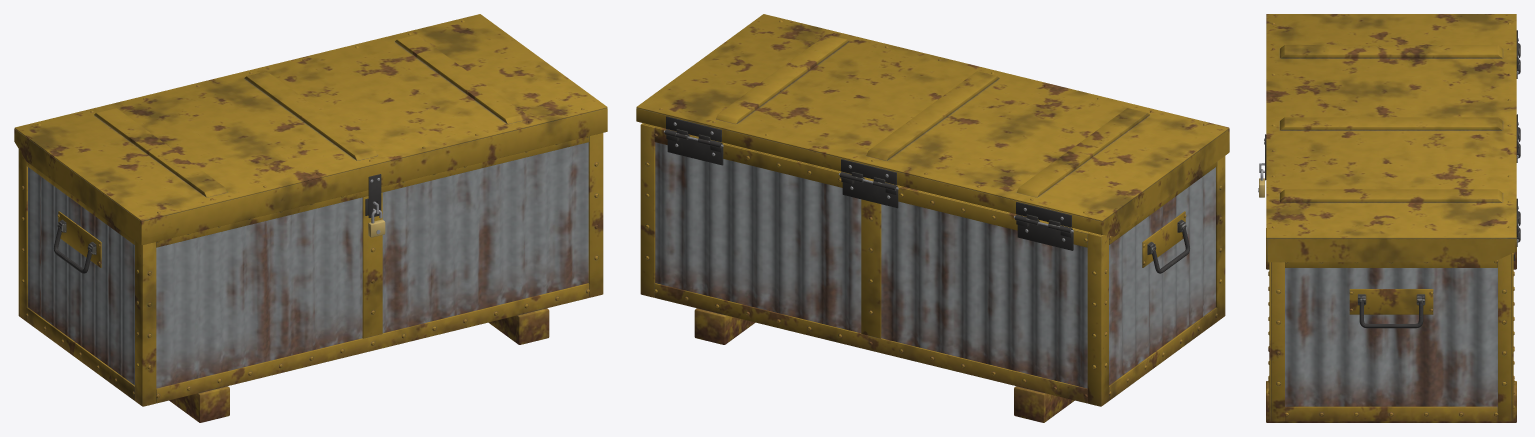
Rendered from bau_aco.glb.
The picture shows the model from 3 angles, left to right: view 1: azimuth 30°, elevation 25°; view 2: azimuth 150°, elevation 25°; view 3: azimuth 270°, elevation 25°; orthographic projection.
Visible parts, largest first — view 1: tampa, corpo, armacao, ferragens, tampa_ferragens; view 2: corpo, tampa, armacao, ferragens, tampa_ferragens; view 3: tampa, corpo, armacao, ferragens, tampa_ferragens.
Boxes of the visible parts, left/top/right/bottom form: tampa: left=14, top=14, right=607, bottom=245; corpo: left=28, top=142, right=588, bottom=388; armacao: left=18, top=133, right=603, bottom=422; ferragens: left=54, top=198, right=385, bottom=273; tampa_ferragens: left=37, top=20, right=584, bottom=217; corpo: left=655, top=142, right=1215, bottom=388; tampa: left=636, top=14, right=1229, bottom=236; armacao: left=640, top=123, right=1225, bottom=422; ferragens: left=664, top=129, right=1189, bottom=273; tampa_ferragens: left=659, top=20, right=1206, bottom=232; tampa: left=1266, top=14, right=1516, bottom=262; corpo: left=1285, top=268, right=1497, bottom=406; armacao: left=1266, top=228, right=1516, bottom=422; ferragens: left=1258, top=43, right=1520, bottom=328; tampa_ferragens: left=1264, top=22, right=1520, bottom=241.
Bounding box in the file's own units: 1.58 × 0.688 × 0.7512.
3 materials, 3 textured.
